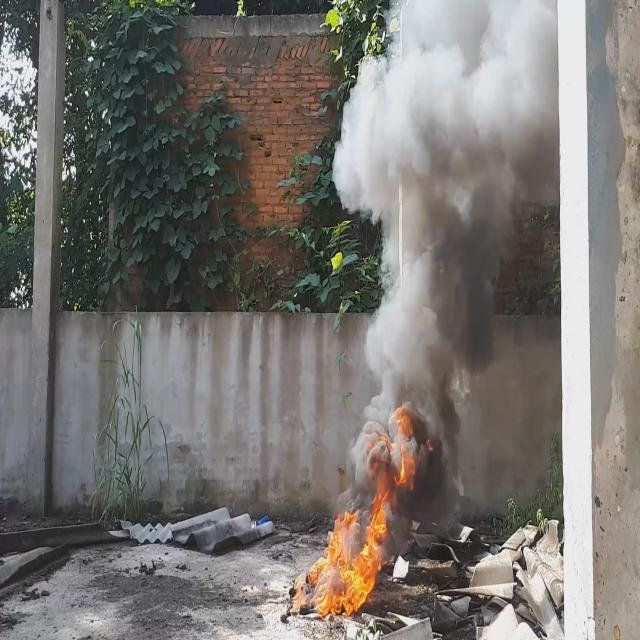Fire: (294, 485, 394, 615)
Smoke: (331, 0, 558, 514)
